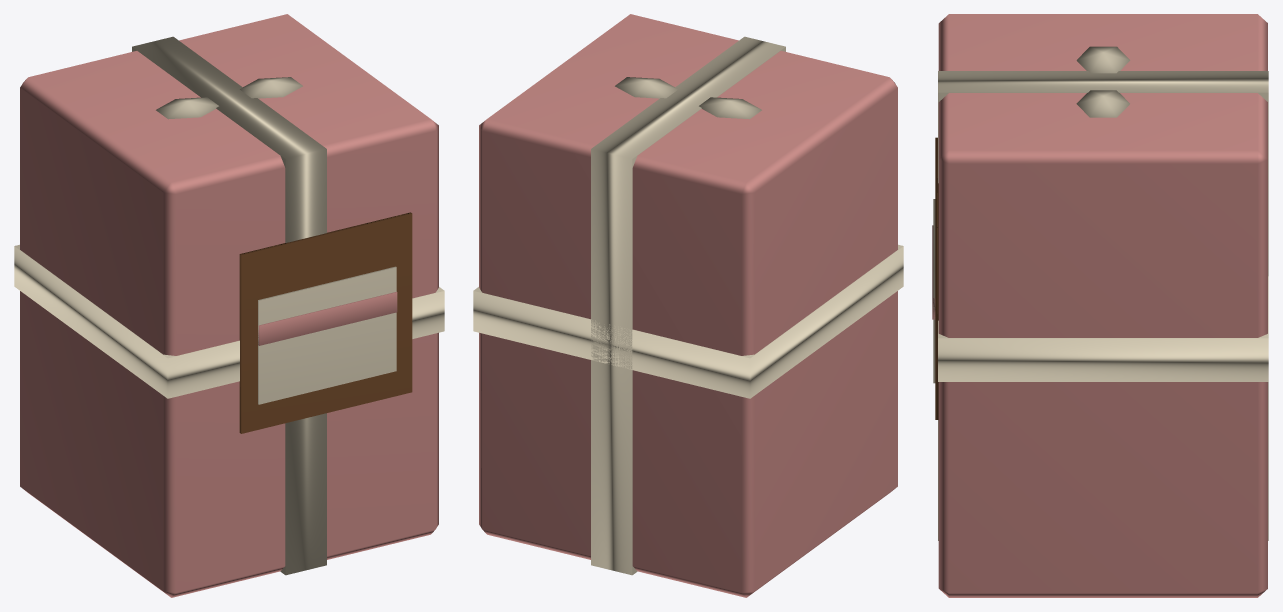
Rendered from cargo_cake.glb.
The picture shows the model from 3 angles, left to right: view 1: azimuth 30°, elevation 25°; view 2: azimuth 150°, elevation 25°; view 3: azimuth 270°, elevation 25°; orthographic projection. The views are drawn at different scales.
Visible parts, largest first — view 1: cargo_cake; view 2: cargo_cake; view 3: cargo_cake.
Part boxes in pixels (x1=…): cargo_cake: x1=14, y1=14, x2=444, y2=597; cargo_cake: x1=473, y1=14, x2=903, y2=597; cargo_cake: x1=932, y1=14, x2=1268, y2=597.
Size of the model in its own units: 0.502 by 0.733 by 0.4905.
